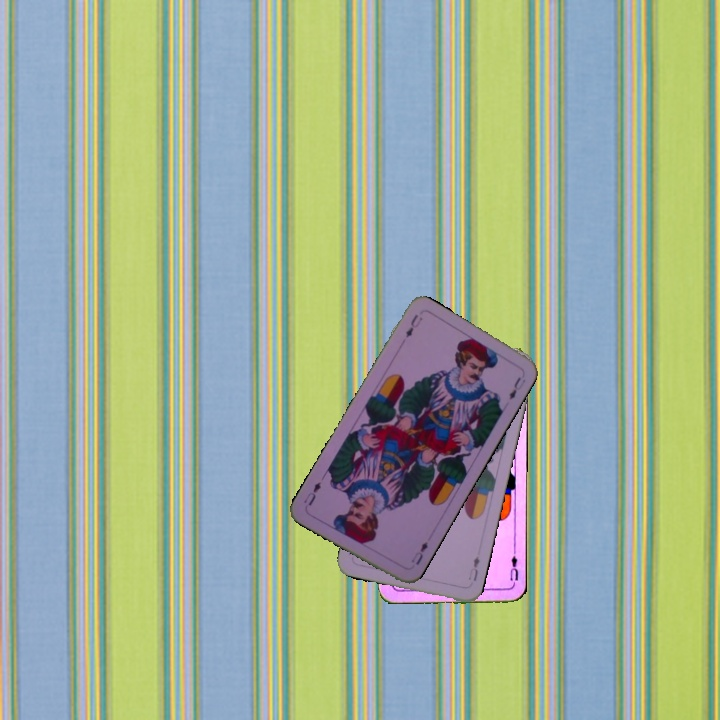EU: (401, 310, 425, 340), (407, 537, 430, 567), (506, 548, 521, 588), (464, 552, 482, 583)
